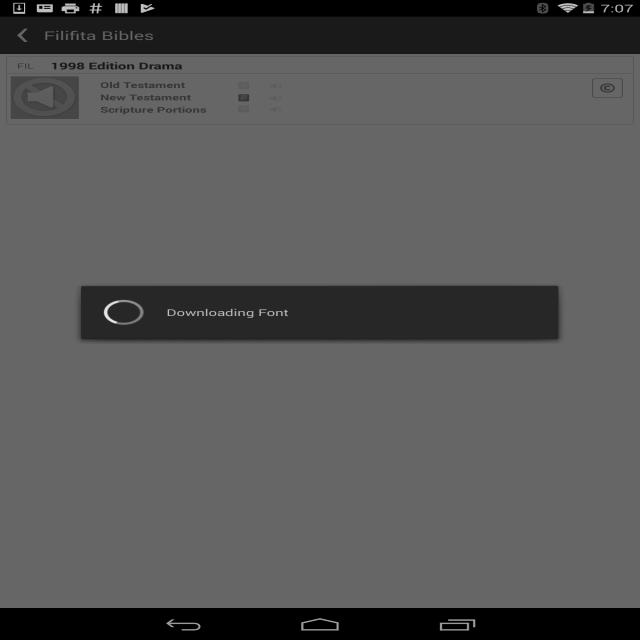ImageButton: (6, 566, 49, 596)
ImageView: (0, 30, 37, 40), (402, 576, 430, 588), (211, 576, 237, 588), (311, 573, 329, 590), (302, 60, 338, 68), (558, 44, 567, 49), (627, 42, 636, 47), (34, 35, 51, 36)
ProgressBar: (597, 570, 623, 586)
TextView: (497, 27, 562, 44), (580, 29, 631, 42)
